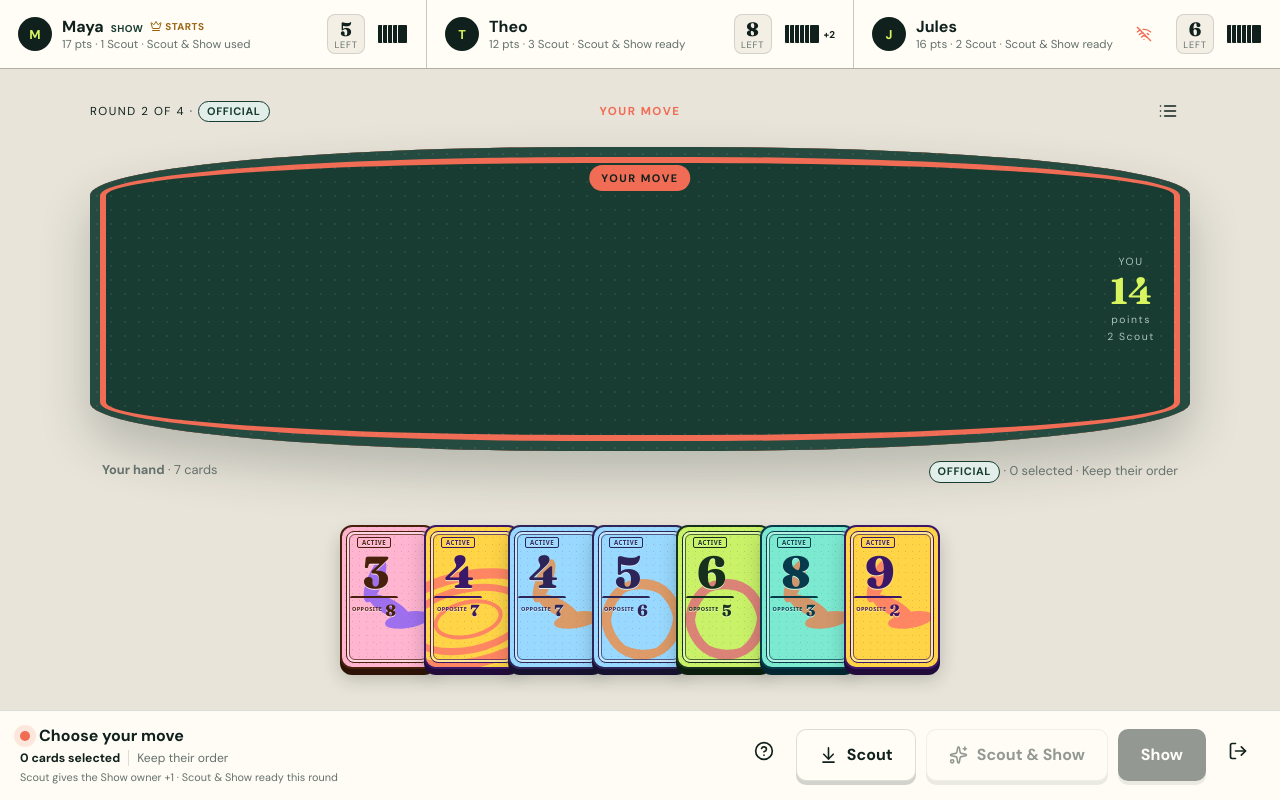
Test case: GameScreen action hints › reports projected too-weak and invalid selections with their counts
Click the button with aria-label "active 3, opposite 8". click: (388, 597)
box: [340, 524, 436, 670]
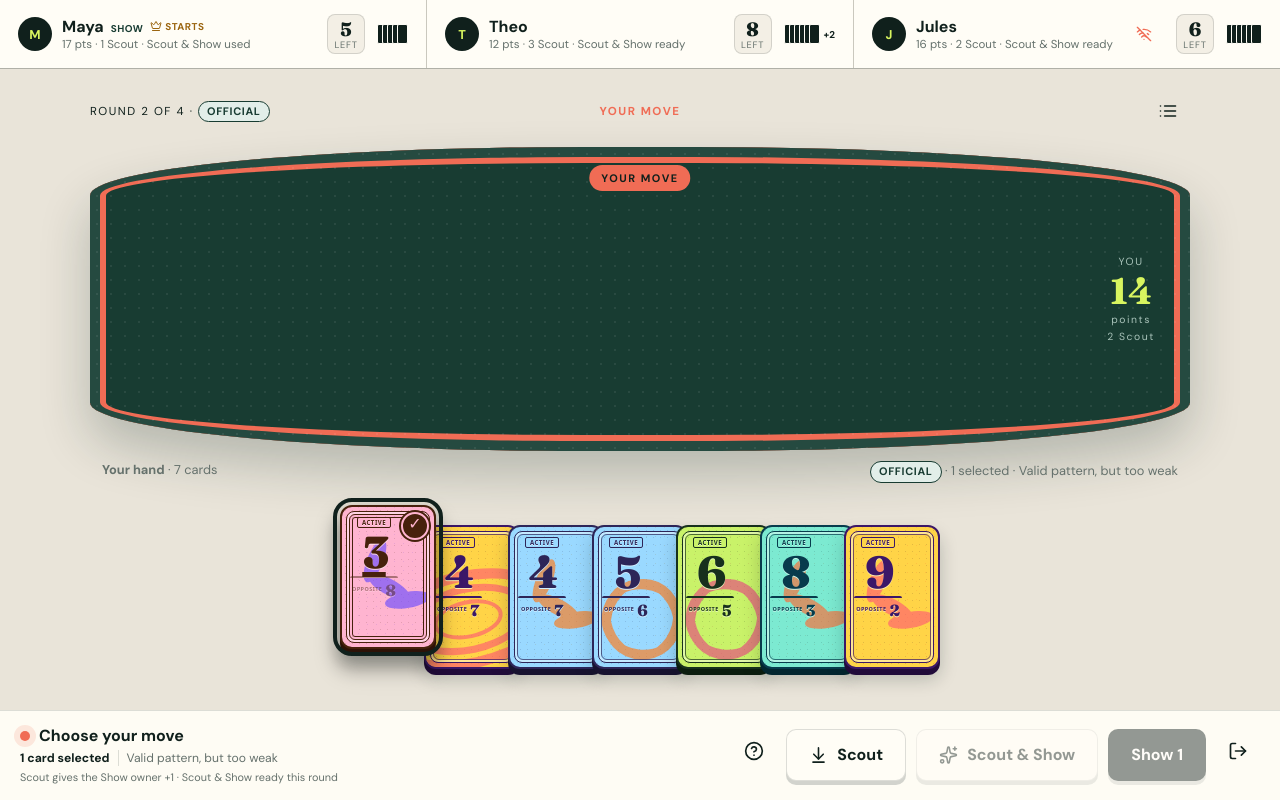
Now the message shows "1 card selected", box [20, 750, 278, 766]
Now the message shows "Valid pattern, but too weak", box [126, 750, 278, 766]
Click the button with aria-label "active 4, opposite 7". click: (472, 597)
box: [424, 524, 520, 670]
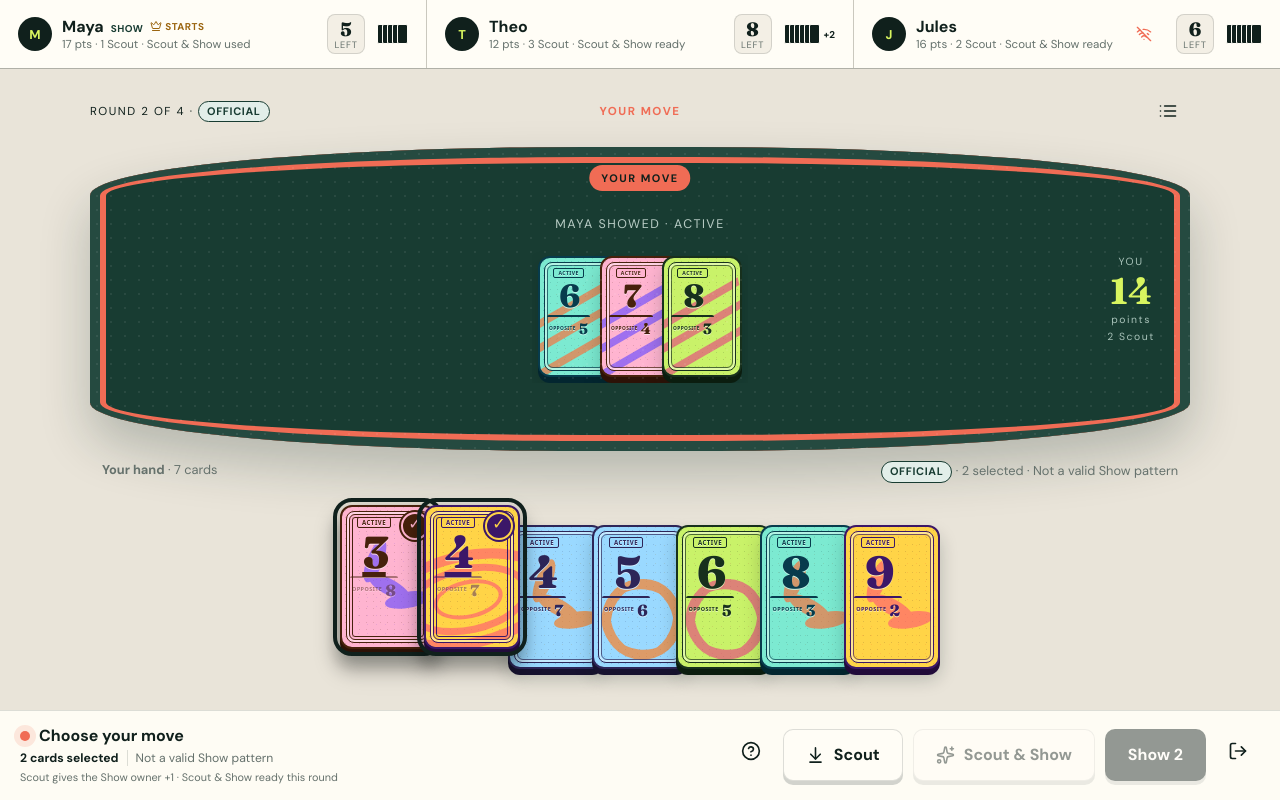
Now the message shows "2 cards selected", box [20, 750, 273, 766]
Now the message shows "Not a valid Show pattern", box [136, 750, 273, 766]
